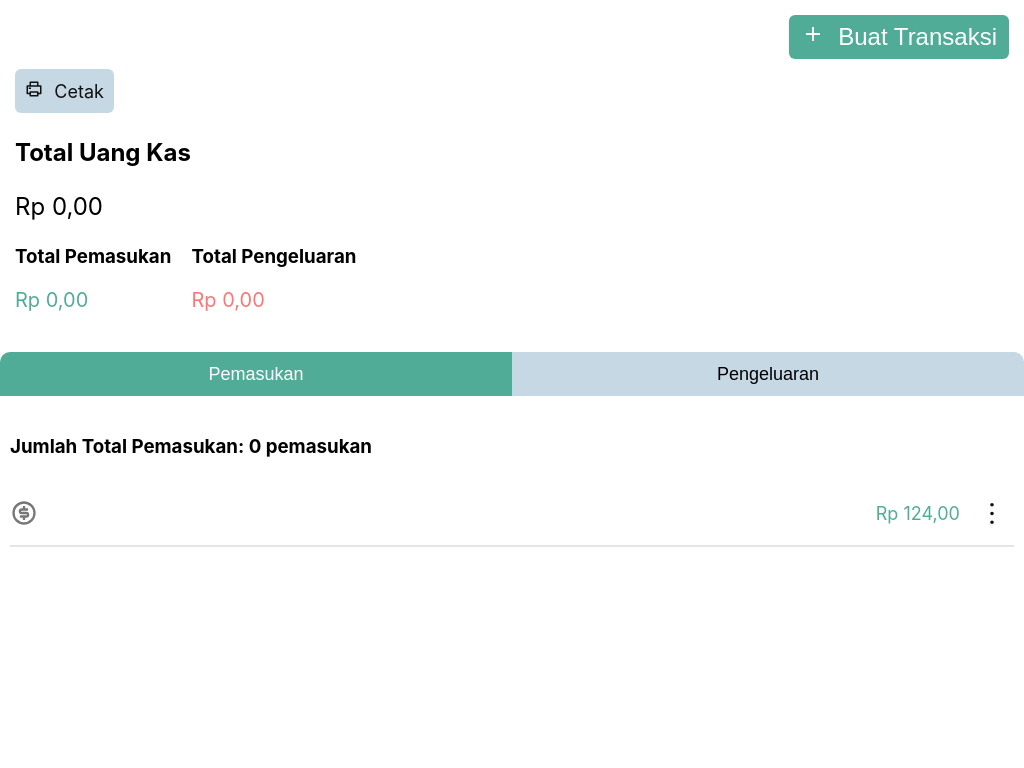
it: Admin successfully remove income transaction
What coordinates should you click on to do the following:
click the button with test id "cashflow-item-btn"
I would click on:
 (992, 513)
Its box is top-left (970, 491), bottom-right (1014, 535).
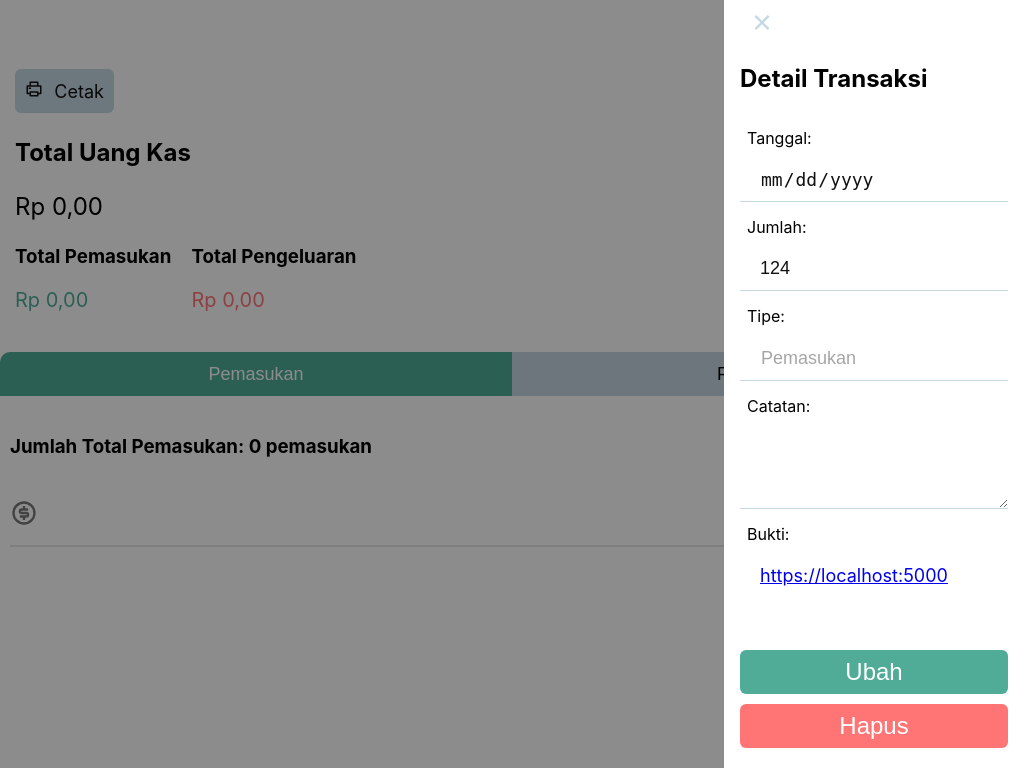
What coordinates should you click on to do the following:
click the button with test id "remove-cashflow-btn"
I would click on:
 (874, 726)
Its box is top-left (740, 704), bottom-right (1008, 748).
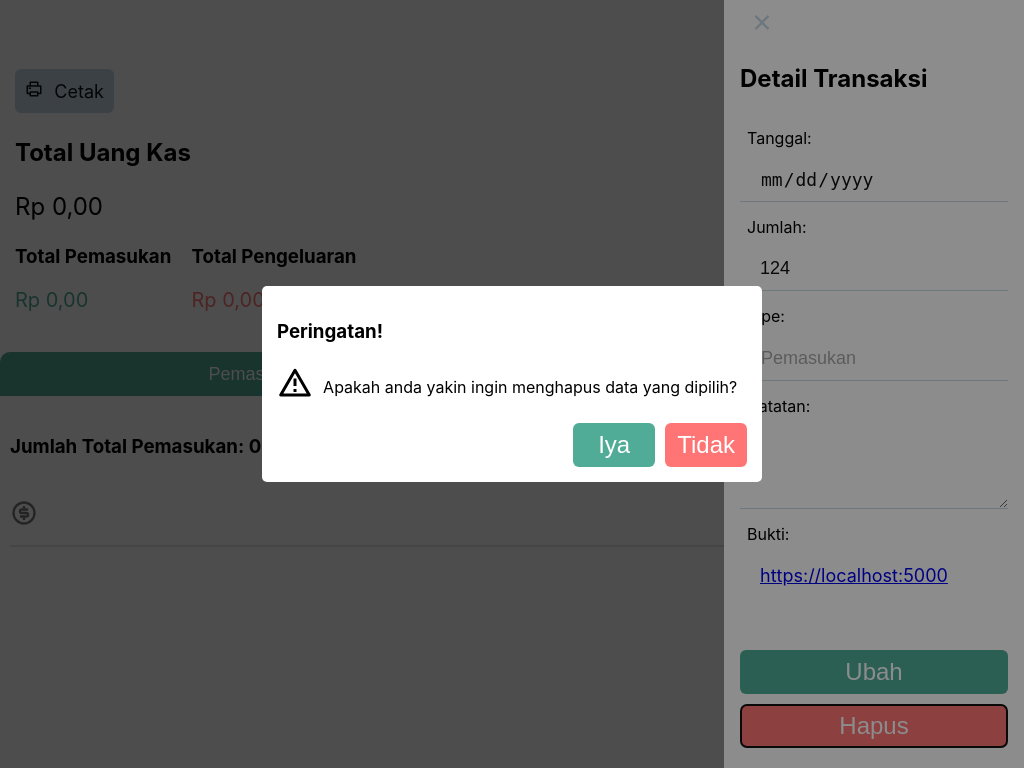
Result: the button with test id "popup-modal-conf-btn" is shown
What coordinates should you click on to do the following:
click the button with test id "popup-modal-conf-btn"
I would click on:
 (614, 445)
Its box is top-left (573, 423), bottom-right (655, 467).
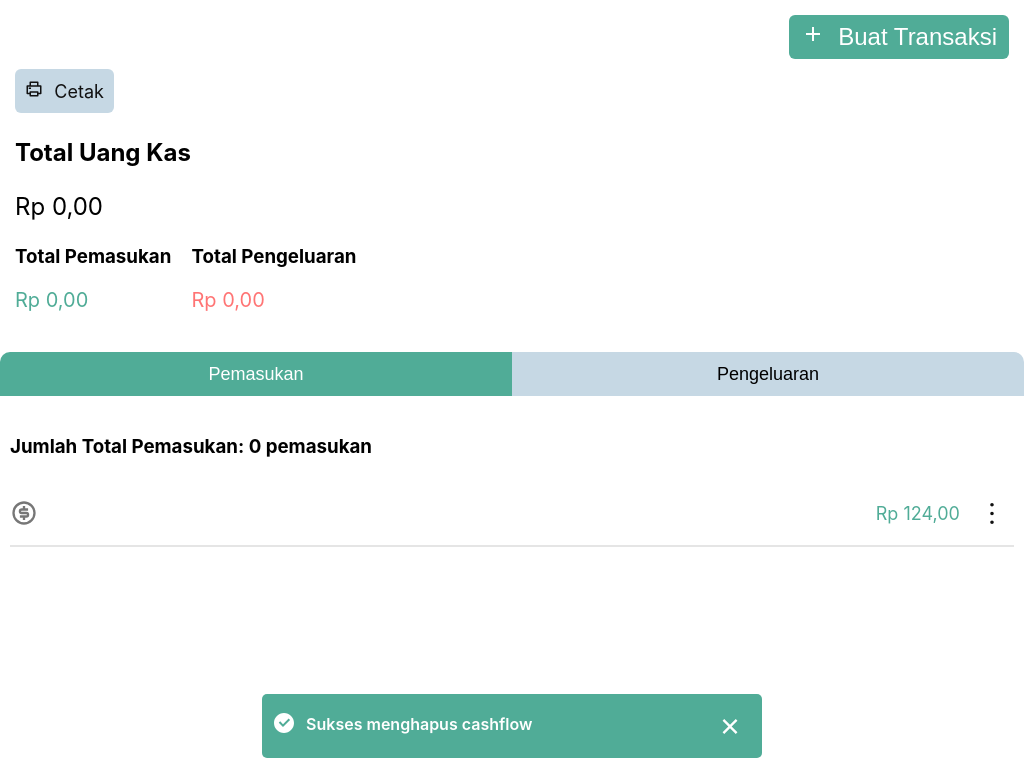
Result: the button with test id "popup-modal-conf-btn" is gone
